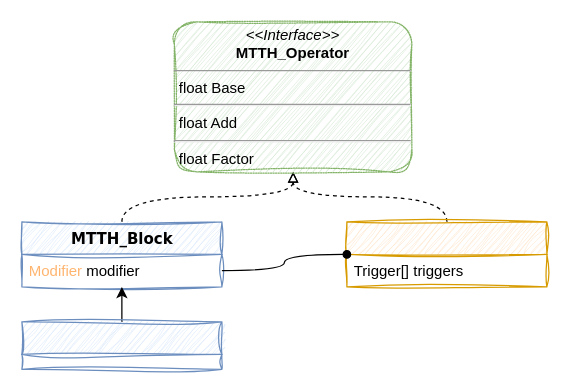
The diagram is 569 pixels wide and 391 high, and some of its shapes have lost their labels. Here are the shapes that lost their labels. From the top down, the box of each, then its label:
(346, 221, 547, 287): Modifier
(21, 321, 222, 369): Country
